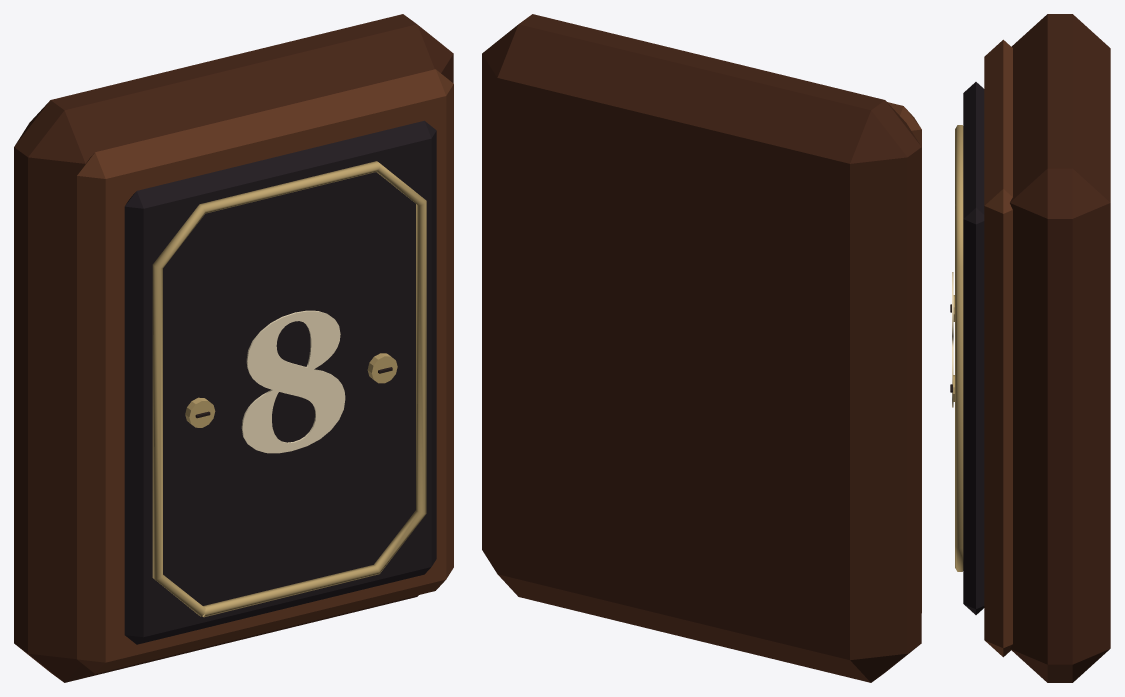
Rendered from BedroomNumber08.glb.
The picture shows the model from 3 angles, left to right: view 1: azimuth 30°, elevation 25°; view 2: azimuth 150°, elevation 25°; view 3: azimuth 270°, elevation 25°; orthographic projection. The views are drawn at different scales.
Visible parts, largest first — view 1: EnamelFace.014, BevelledOak.014, OakMoulding.014, GoldCartouche.014, Lettering_8, FlushBrassFixing.029, FlushBrassFixing.028; view 2: BevelledOak.014, OakMoulding.014; view 3: BevelledOak.014, OakMoulding.014, EnamelFace.014, GoldCartouche.014.
Part boxes in pixels (box(x1,y1,x2,y2)): EnamelFace.014: box(124, 120, 436, 644); BevelledOak.014: box(14, 14, 453, 682); OakMoulding.014: box(77, 69, 453, 673); GoldCartouche.014: box(152, 161, 426, 617); Lettering_8: box(241, 310, 345, 453); FlushBrassFixing.029: box(367, 353, 397, 383); FlushBrassFixing.028: box(185, 397, 215, 427); BevelledOak.014: box(482, 14, 921, 682); OakMoulding.014: box(887, 102, 921, 612); BevelledOak.014: box(1010, 14, 1110, 682); OakMoulding.014: box(984, 39, 1012, 657); EnamelFace.014: box(963, 82, 984, 614); GoldCartouche.014: box(955, 125, 963, 571).
Bounding box in the file's own units: 1.05 × 1.35 × 0.381.
